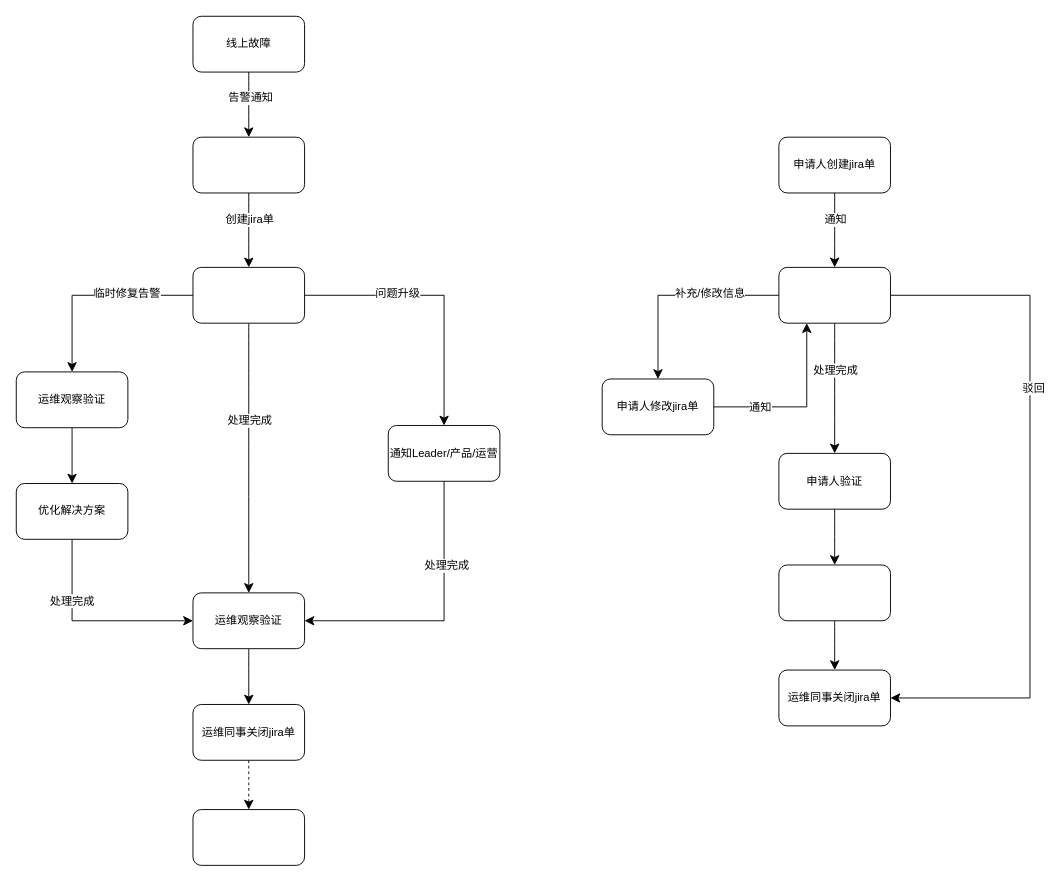
This 1060x882 diagram has some shape labels left out. Here are the shapes that lost their labels. From the top down, the centre of each, then its label:
At (x=248, y=164): "运维/研发同事".
At (x=248, y=294): "值班研发/运维介入处理".
At (x=834, y=294): "运维同事处理".
At (x=834, y=592): "申请人更新监控告警列表文档".
At (x=248, y=837): "故障复盘".
